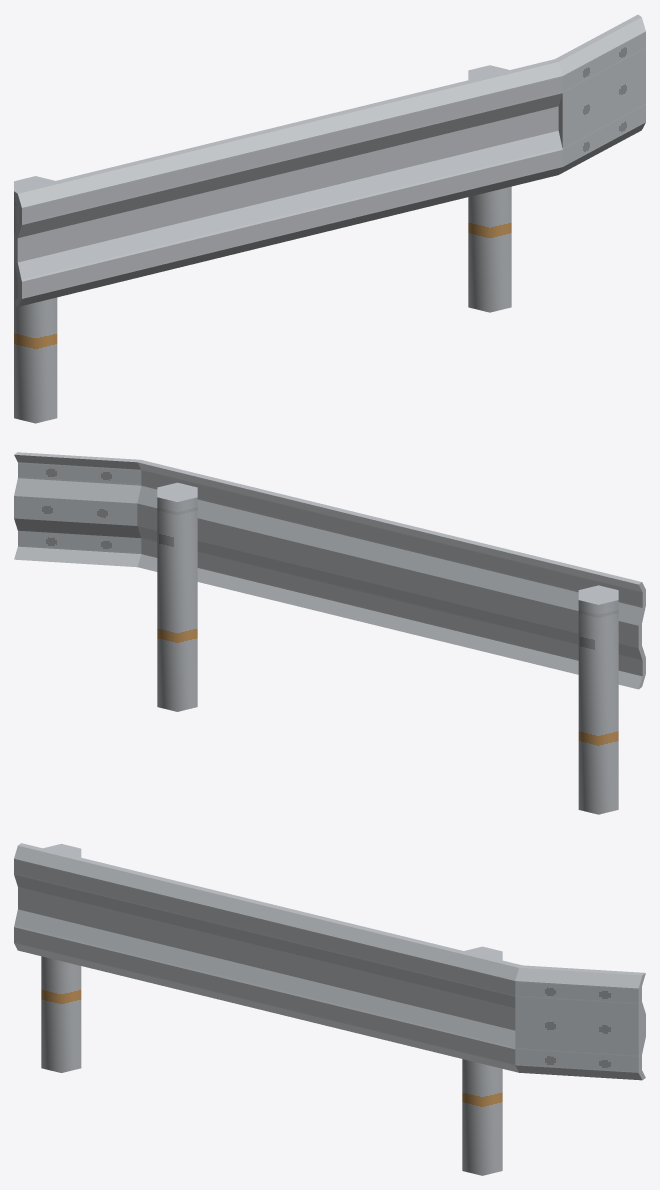
File: 02e1_Guardrail_Left.glb
The picture shows the model from 3 angles, top to bottom: view 1: azimuth 30°, elevation 25°; view 2: azimuth 150°, elevation 25°; view 3: azimuth 330°, elevation 25°; orthographic projection. The views are drawn at different scales.
Parts seen in each view (by area): view 1: part_0; view 2: part_0; view 3: part_0.
Part boxes in pixels (x1,y1,x2,y2): part_0: [14, 14, 645, 423]; part_0: [14, 452, 645, 814]; part_0: [14, 843, 645, 1175].
Bounding box in the file's own units: 3 × 1.05 × 0.2634.
1 material, 1 textured.
